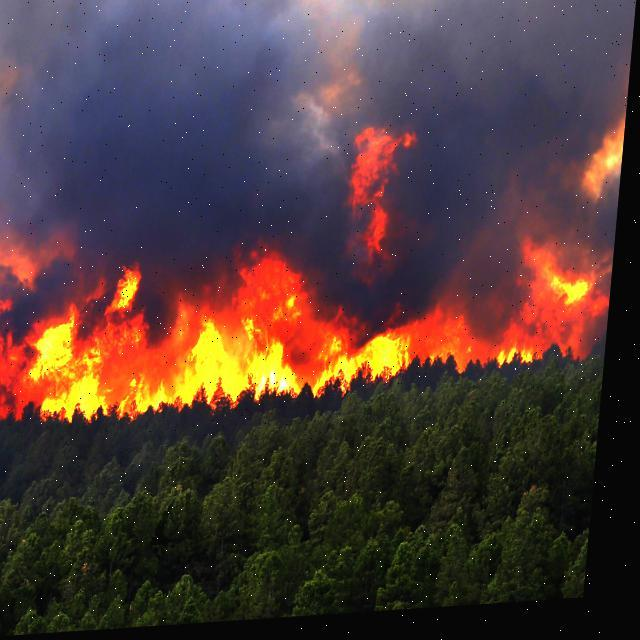Fire: (0, 118, 629, 420)
